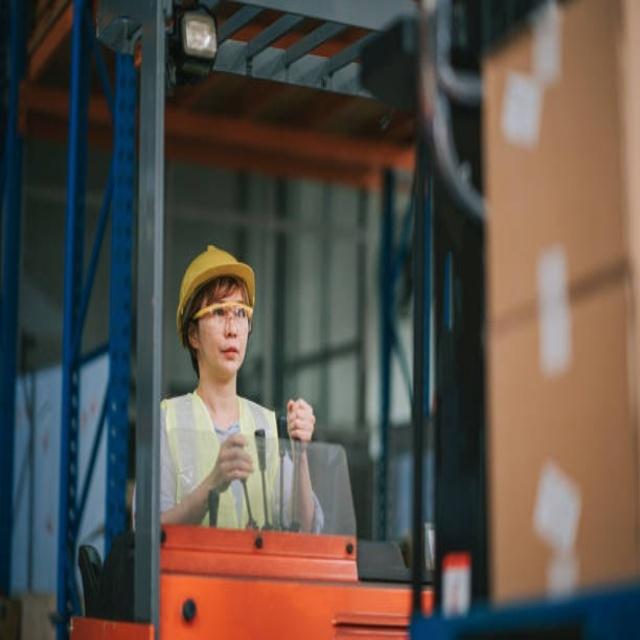Gafas: (193, 303, 254, 332)
Sin_guantes: (213, 430, 256, 493), (286, 396, 316, 446)
Sin_mascara: (213, 344, 242, 370)
